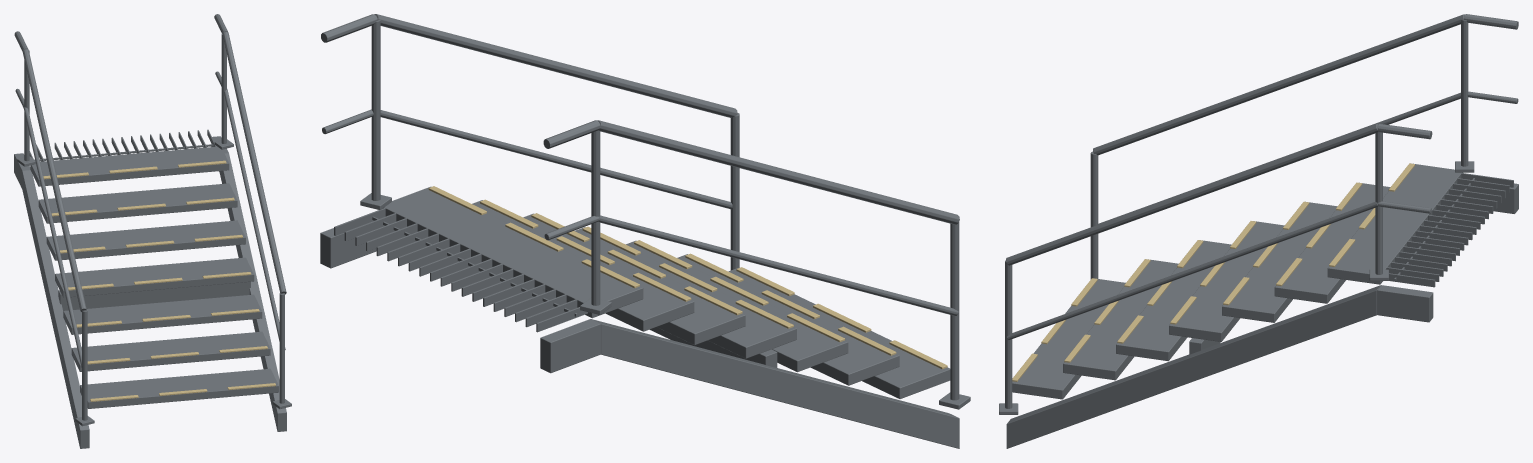
Rendered from BN_C02_Connector.fbx.
The picture shows the model from 3 angles, left to right: view 1: azimuth 30°, elevation 25°; view 2: azimuth 150°, elevation 25°; view 3: azimuth 270°, elevation 25°; orthographic projection. The views are drawn at different scales.
Visible parts, largest first — view 1: BN_C02_Connector; view 2: BN_C02_Connector; view 3: BN_C02_Connector.
Boxes of the visible parts, bbox=[...] form: BN_C02_Connector: bbox=[14, 14, 291, 448]; BN_C02_Connector: bbox=[320, 14, 970, 448]; BN_C02_Connector: bbox=[999, 14, 1518, 448].
Size of the model in its own units: 237 by 238 by 298.
